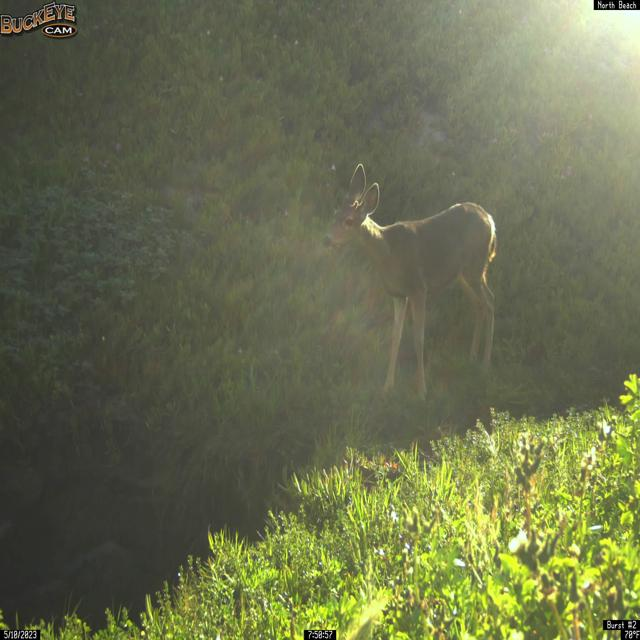deer: (322, 162, 498, 403)
